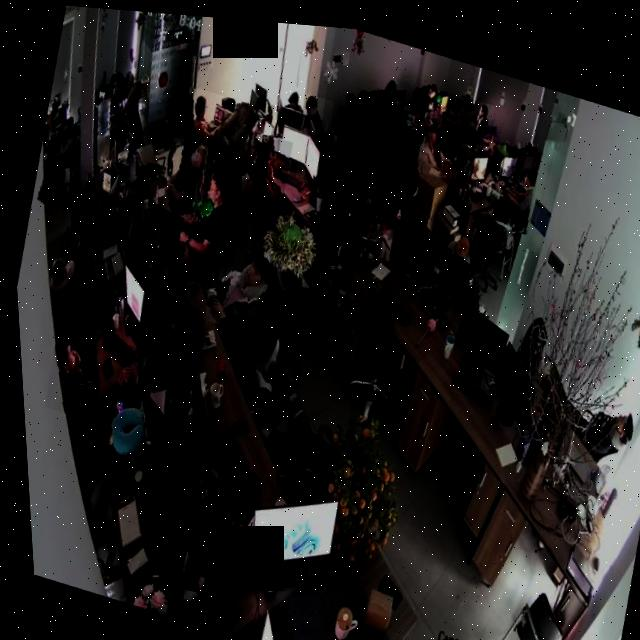person: (157, 152, 240, 286), (36, 330, 136, 430), (196, 235, 273, 333), (233, 125, 295, 230), (176, 82, 252, 155), (155, 132, 212, 219), (33, 113, 80, 210), (408, 99, 463, 175), (493, 154, 540, 227), (226, 103, 261, 163), (296, 87, 335, 136), (463, 91, 497, 145)
